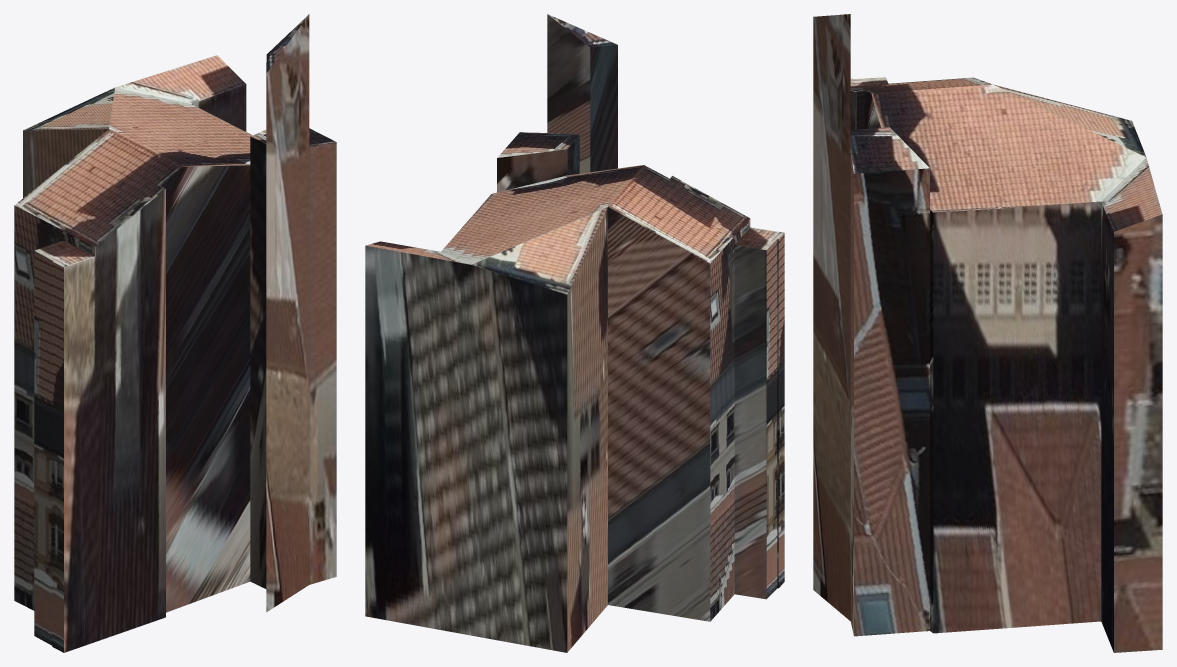
The picture shows the model from 3 angles, left to right: view 1: azimuth 30°, elevation 25°; view 2: azimuth 150°, elevation 25°; view 3: azimuth 270°, elevation 25°; orthographic projection. The views are drawn at different scales.
Parts seen in each view (by area): view 1: Z_UP; view 2: Z_UP; view 3: Z_UP.
Part boxes in pixels (x1,y1,x2,y2): Z_UP: (14, 14, 336, 652); Z_UP: (365, 14, 784, 652); Z_UP: (813, 14, 1162, 652).
Bounding box in the file's own units: 15.4 × 26.33 × 13.71.
2 materials, 1 textured.
